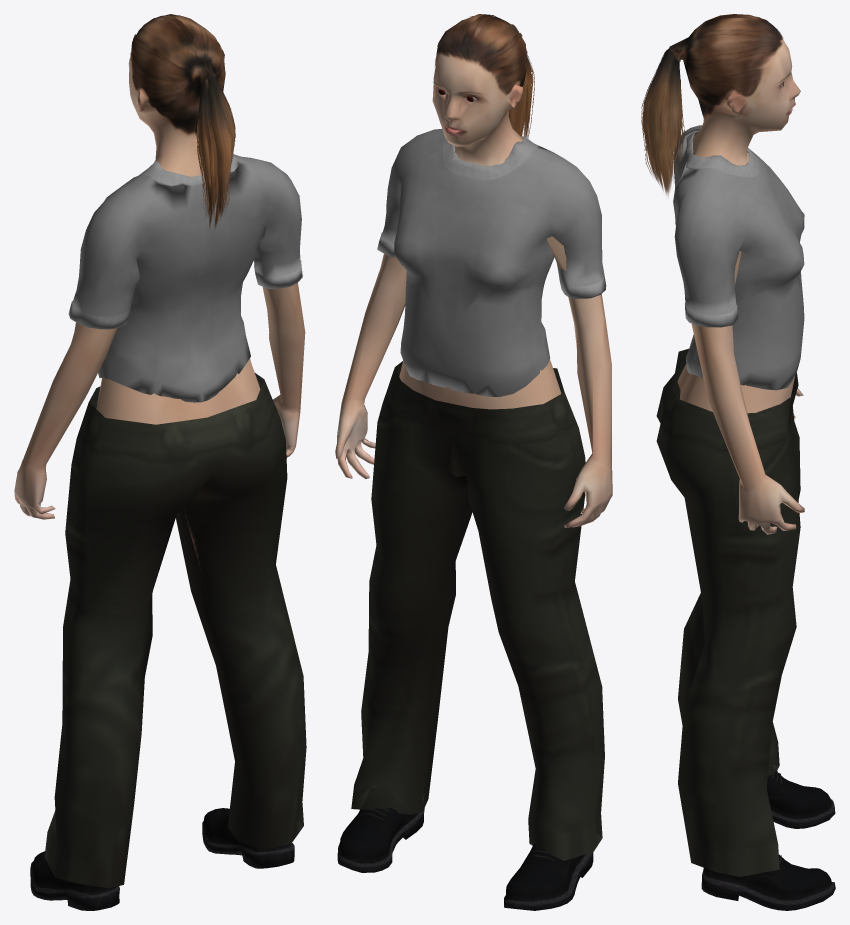
The model's file is woman_tee_standing.glb.
3 renders of one model, left to right at view 1: azimuth 30°, elevation 25°; view 2: azimuth 150°, elevation 25°; view 3: azimuth 270°, elevation 25°, orthographic. The views are drawn at different scales.
Visible parts, largest first — view 1: Human_atlas; view 2: Human_atlas; view 3: Human_atlas.
Part boxes in pixels (x1,y1,x2,y2): Human_atlas: (14, 14, 306, 910); Human_atlas: (335, 14, 612, 910); Human_atlas: (641, 14, 835, 910).
Bounding box in the file's own units: 0.5393 × 1.63 × 0.3409.
Materials: 1 (1 with a texture image).
